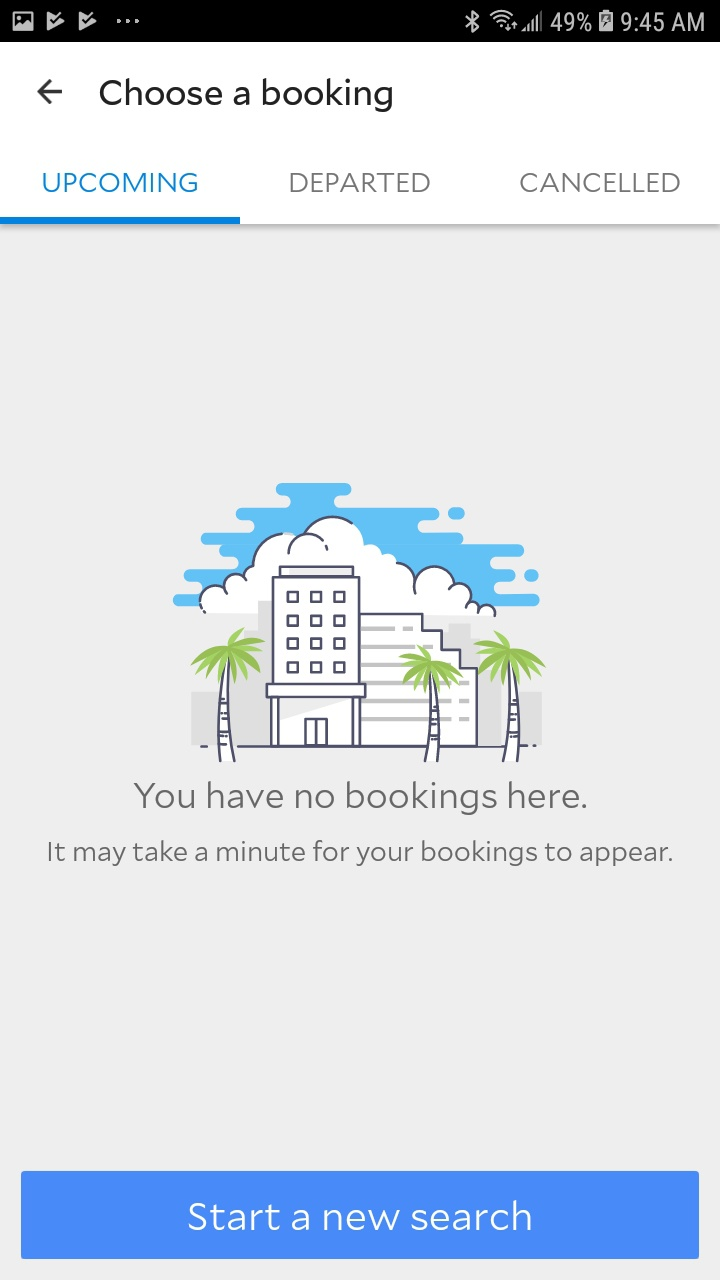Icon: (38, 79, 64, 105)
Image: (172, 482, 546, 763)
Text: (49, 839, 673, 867), (133, 780, 587, 816), (100, 78, 393, 114), (520, 173, 681, 194), (44, 173, 199, 194), (290, 173, 431, 194)
TextButton: (22, 1170, 700, 1259)
UpperTaskBar: (1, 1, 720, 43)
